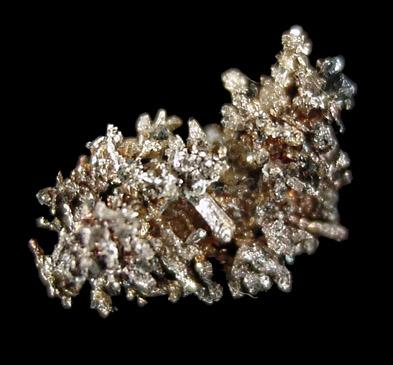silver: (24, 26, 357, 320)
